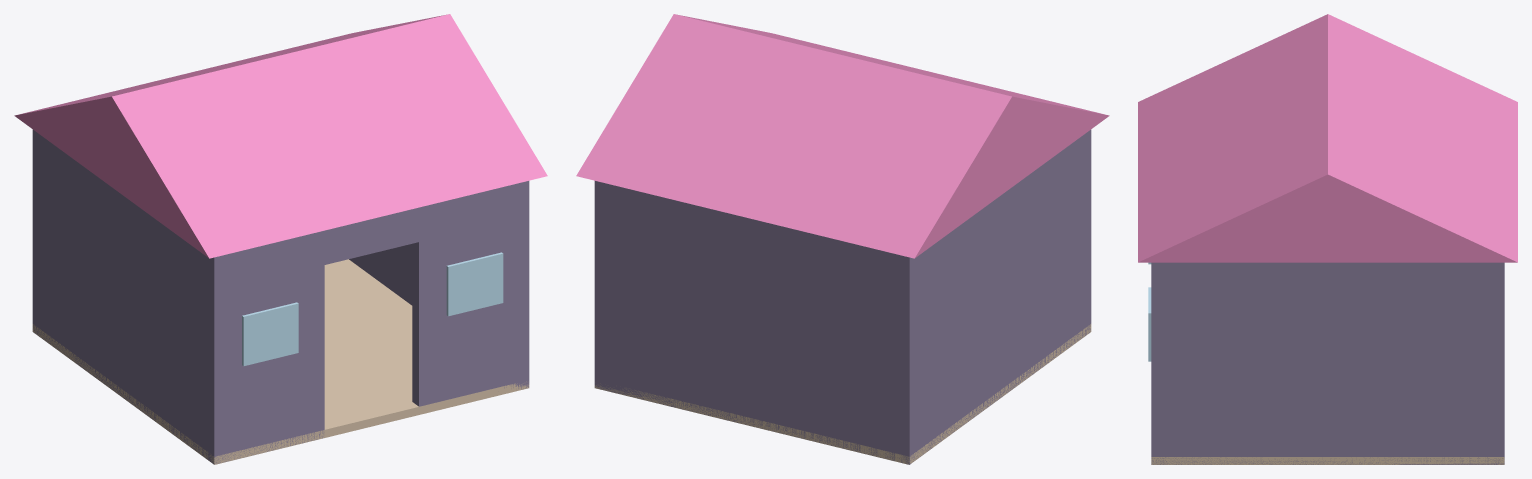
Rendered from arcade.glb.
The picture shows the model from 3 angles, left to right: view 1: azimuth 30°, elevation 25°; view 2: azimuth 150°, elevation 25°; view 3: azimuth 270°, elevation 25°; orthographic projection. The views are drawn at different scales.
Parts seen in each view (by area): view 1: Techo, Pared_izq, Pared_del_a, Pared_del_b, Suelo, Pared_dintel, Ventana.001, Ventana, Pared_der, Pared_tras; view 2: Techo, Pared_tras, Pared_izq, Suelo; view 3: Techo, Pared_der, Suelo, Pared_tras, Pared_del_b.
Boxes of the visible parts, left/top/right/bottom form: Techo: left=14, top=14, right=547, bottom=258; Pared_izq: left=32, top=130, right=226, bottom=464; Pared_del_a: left=207, top=230, right=324, bottom=463; Pared_del_b: left=412, top=181, right=529, bottom=406; Suelo: left=32, top=259, right=529, bottom=464; Pared_dintel: left=324, top=207, right=418, bottom=264; Ventana.001: left=446, top=252, right=503, bottom=316; Ventana: left=242, top=302, right=298, bottom=366; Pared_der: left=349, top=181, right=529, bottom=384; Pared_tras: left=32, top=129, right=39, bottom=336; Techo: left=576, top=14, right=1109, bottom=258; Pared_tras: left=594, top=181, right=916, bottom=464; Pared_izq: left=897, top=129, right=1091, bottom=464; Suelo: left=594, top=324, right=1091, bottom=464; Techo: left=1138, top=14, right=1517, bottom=262; Pared_der: left=1151, top=262, right=1504, bottom=464; Suelo: left=1151, top=457, right=1504, bottom=464; Pared_tras: left=1491, top=262, right=1504, bottom=464; Pared_del_b: left=1151, top=262, right=1164, bottom=464.
Bounding box in the file's own units: 4.3 × 3.7 × 4.3.
